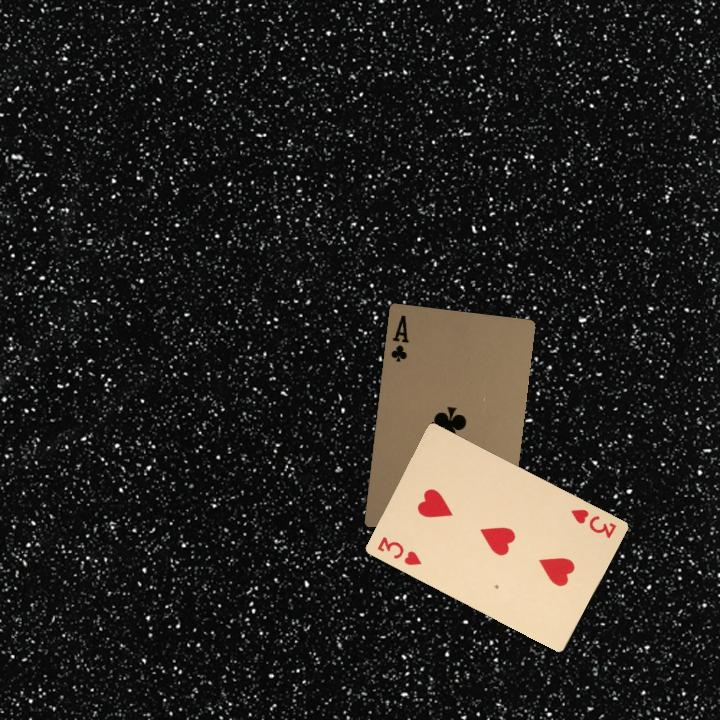3h: (567, 505, 619, 541), (373, 532, 424, 568)
Ac: (387, 311, 412, 364)
